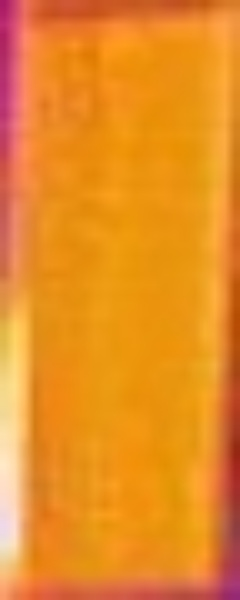Diode: (1, 298, 40, 574)
